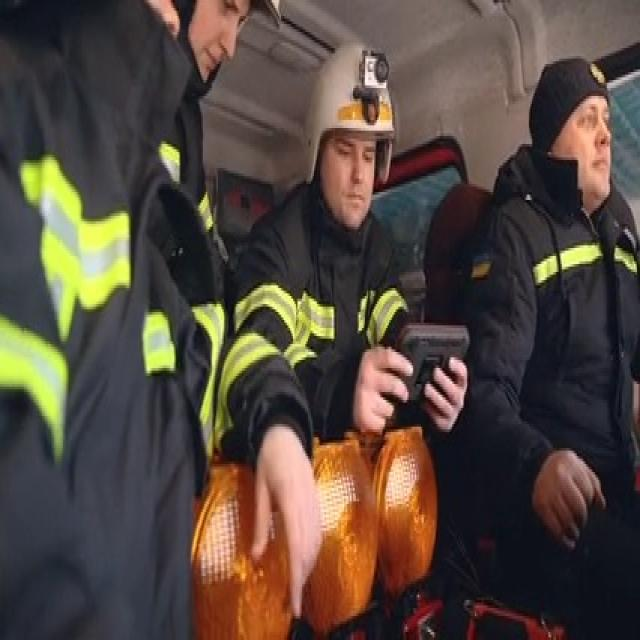Helmet_Wearer: (294, 34, 401, 230)
Jacket_Wearer: (474, 185, 640, 580), (234, 200, 422, 418)
Person: (222, 40, 470, 624), (475, 48, 640, 640)
